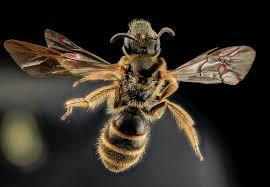Lasioglossum: (4, 13, 257, 179)
